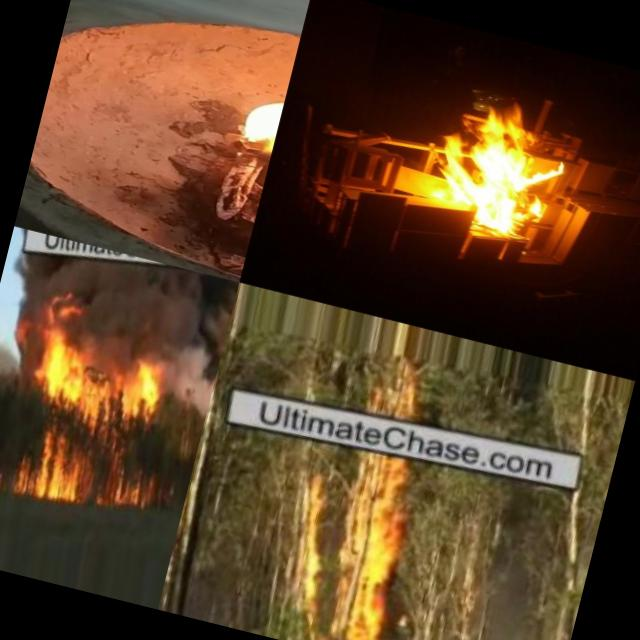fire: (266, 450, 424, 640), (413, 80, 577, 248), (23, 299, 179, 428), (10, 422, 158, 528), (218, 21, 301, 175)
smoke: (5, 245, 189, 330), (161, 271, 239, 415), (0, 290, 47, 369)
